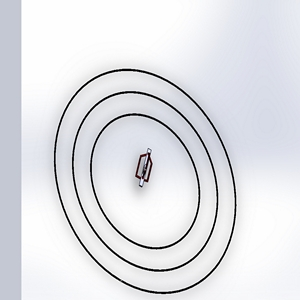circle: (48, 61, 242, 296)
submarine: (130, 144, 161, 198)
